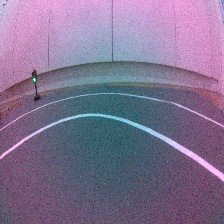green: (29, 69, 44, 103)
